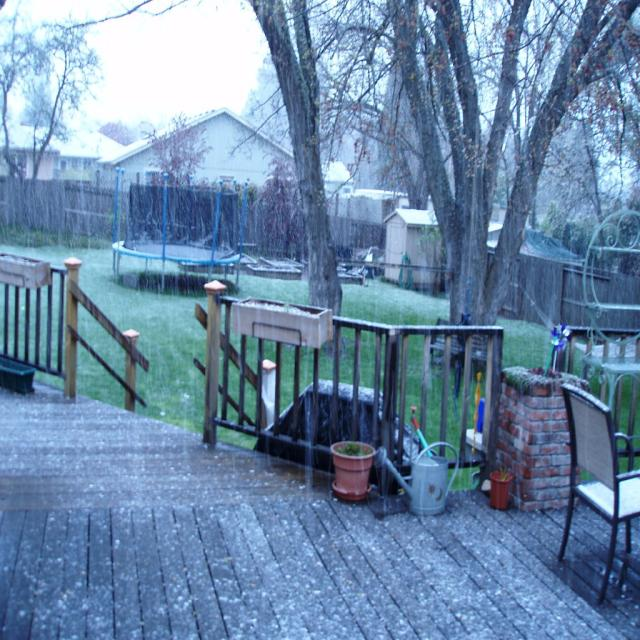Chair: (555, 364, 637, 597)
